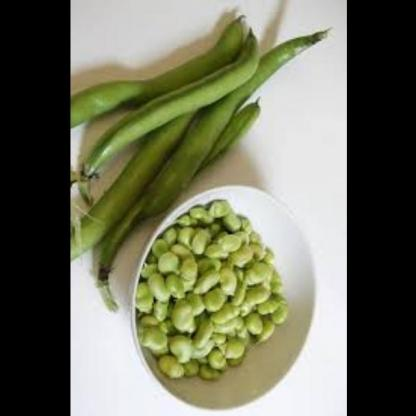beans: (71, 8, 334, 281), (140, 199, 294, 384)
